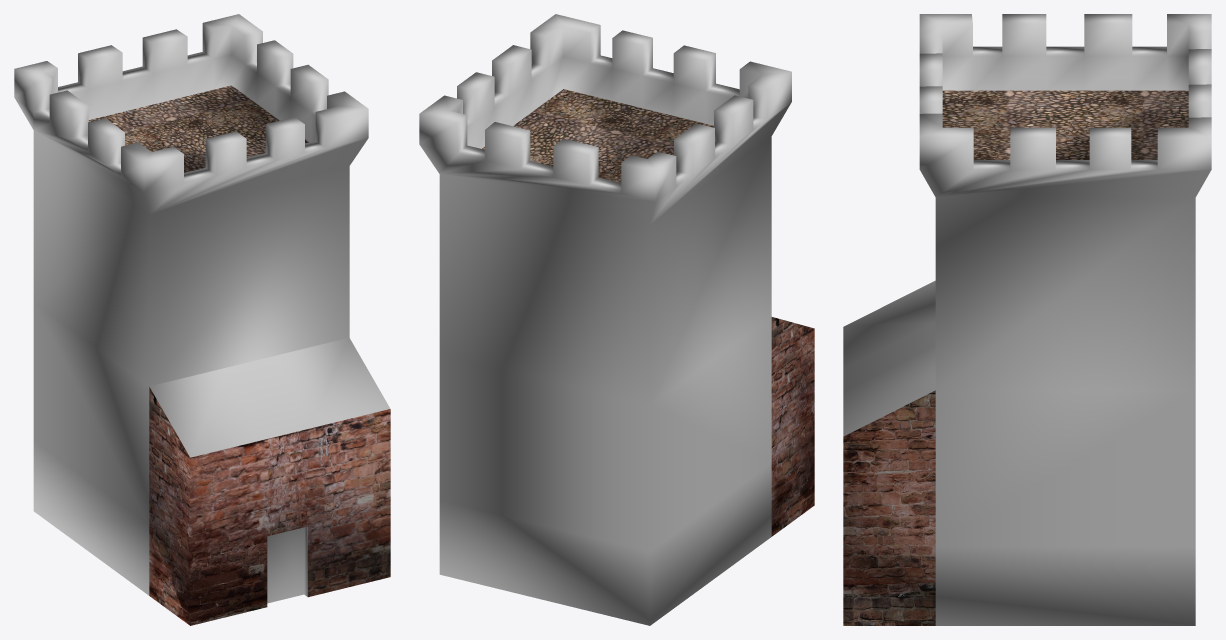
Rendered from TowerC.fbx.
The picture shows the model from 3 angles, left to right: view 1: azimuth 30°, elevation 25°; view 2: azimuth 150°, elevation 25°; view 3: azimuth 270°, elevation 25°; orthographic projection. The views are drawn at different scales.
Parts seen in each view (by area): view 1: TowerC; view 2: TowerC; view 3: TowerC.
Part boxes in pixels (left/top/right/bottom): TowerC: left=14, top=14, right=390, bottom=625; TowerC: left=419, top=14, right=814, bottom=625; TowerC: left=843, top=14, right=1211, bottom=625.
Bounding box in the file's own units: 284 × 532 × 358.
